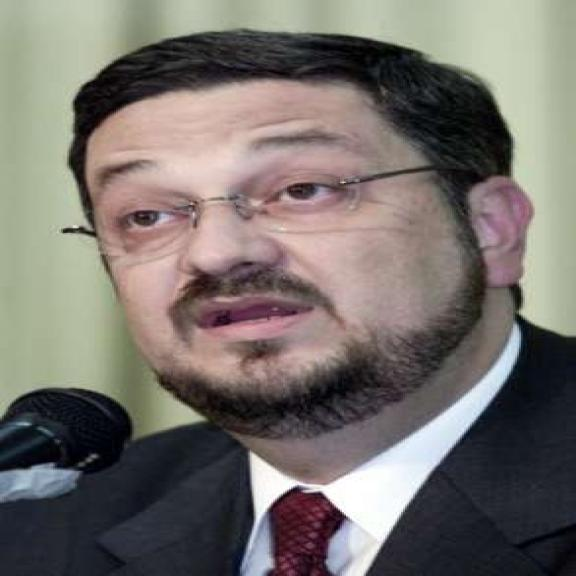face: (69, 78, 539, 422)
